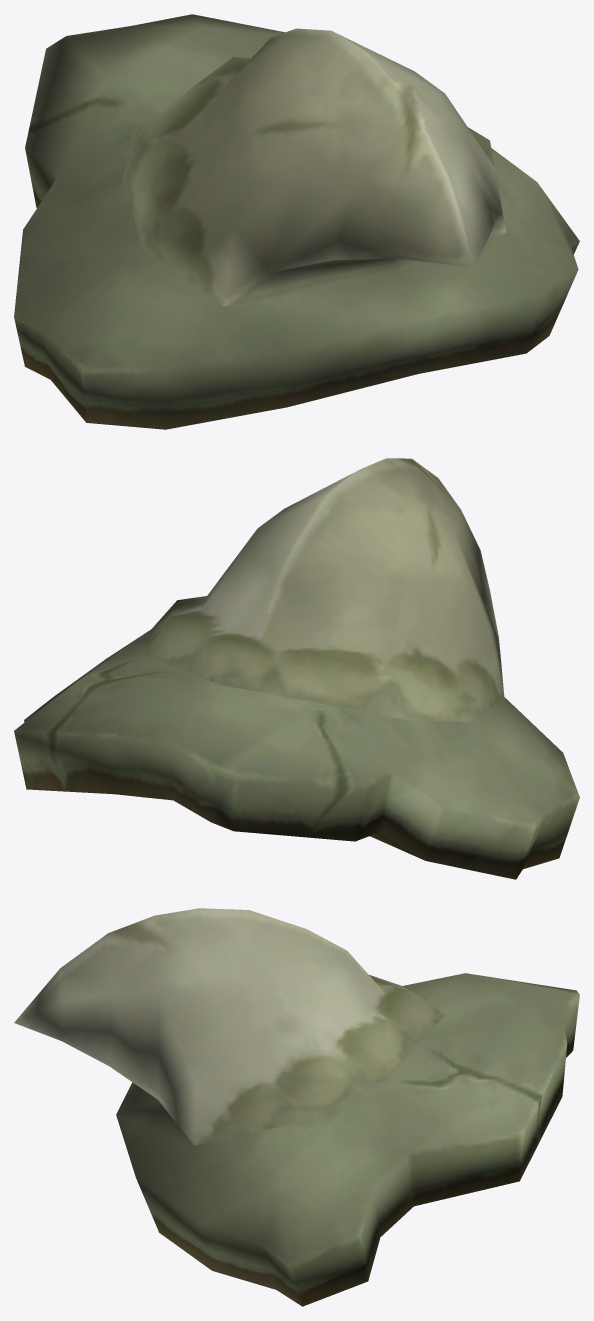
File: Item_Enemy_55.glb
3 renders of one model, top to bottom at view 1: azimuth 30°, elevation 25°; view 2: azimuth 150°, elevation 25°; view 3: azimuth 270°, elevation 25°, orthographic. The views are drawn at different scales.
Visible parts, largest first — view 1: Item_Enemy_55; view 2: Item_Enemy_55; view 3: Item_Enemy_55.
Part boxes in pixels (x1,y1,x2,y2): Item_Enemy_55: (14,14,579,429); Item_Enemy_55: (14,458,579,879); Item_Enemy_55: (14,908,579,1306).
Bounding box in the file's own units: 0.9336 × 0.584 × 1.02.
Materials: 1 (1 with a texture image).
